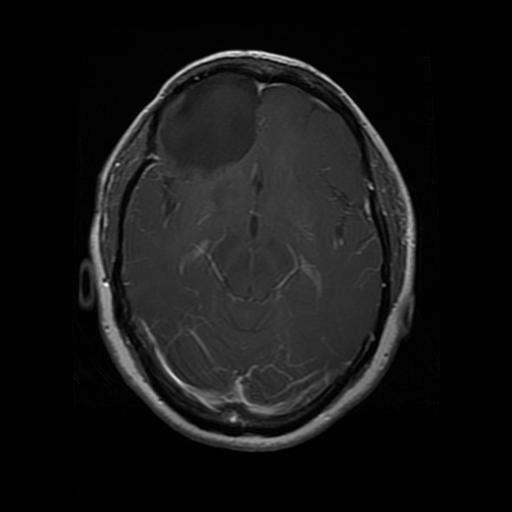Tumour-Glioma: (173, 80, 266, 172)
